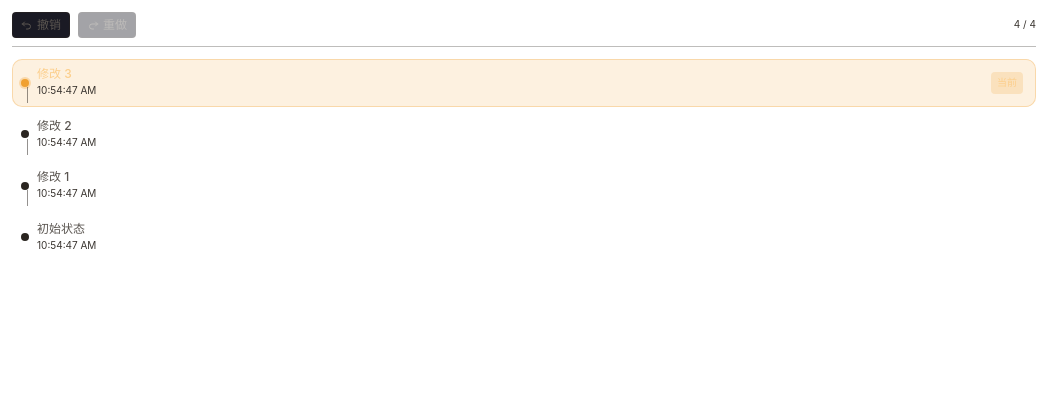
VersionTimeline - 预览 › 预览面板的取消按钮工作
Click the button "修改 3 10:54:47 AM 当前" at (54, 74), box [12,59,1036,106]
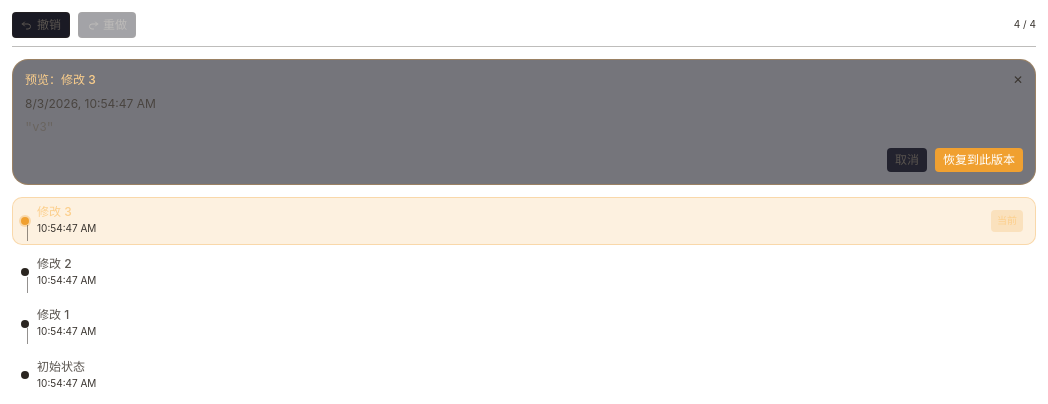
Click the button "取消" at (907, 160), box [887,148,927,172]
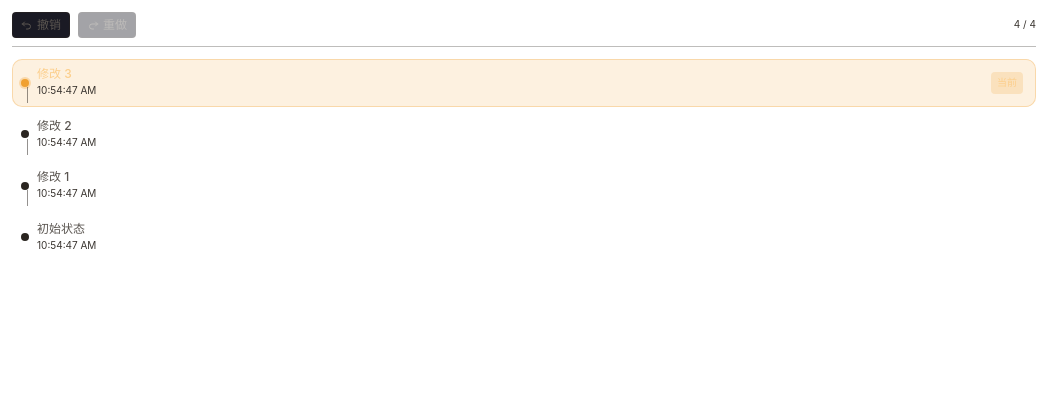
Now the element with test id "version-preview" is gone
